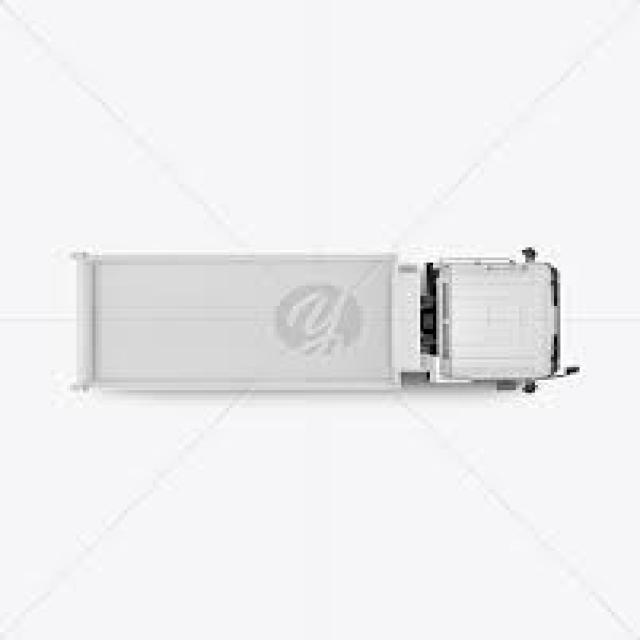truck: (74, 250, 564, 390)
